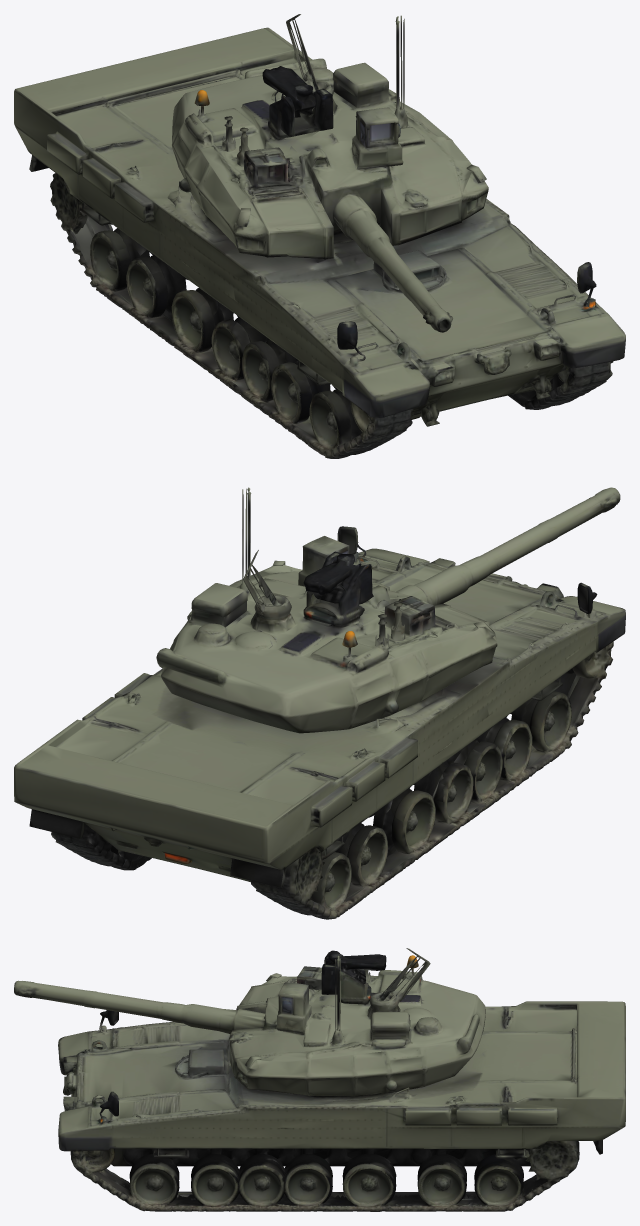
File: tank.glb
The picture shows the model from 3 angles, top to bottom: view 1: azimuth 30°, elevation 25°; view 2: azimuth 150°, elevation 25°; view 3: azimuth 270°, elevation 25°; orthographic projection. The views are drawn at different scales.
Visible parts, largest first — view 1: node_0; view 2: node_0; view 3: node_0.
Boxes of the visible parts, bbox=[...] form: node_0: bbox=[14, 14, 625, 458]; node_0: bbox=[14, 487, 625, 919]; node_0: bbox=[14, 948, 625, 1211].
Size of the model in its own units: 0.4565 by 0.4878 by 1.12.
Materials: 1 (1 with a texture image).
